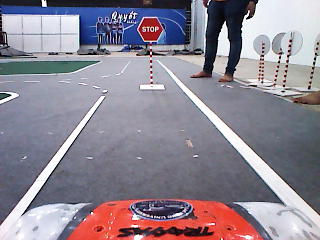stop: (137, 16, 164, 42)
